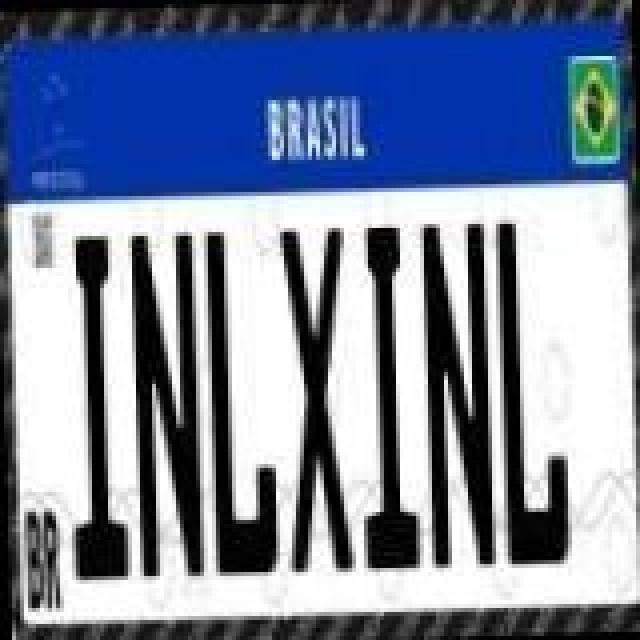I: (352, 224, 420, 572), (60, 232, 128, 576)
L: (204, 222, 280, 574), (492, 218, 568, 566)
N: (124, 226, 200, 578), (420, 216, 496, 568)
X: (276, 224, 352, 576)
